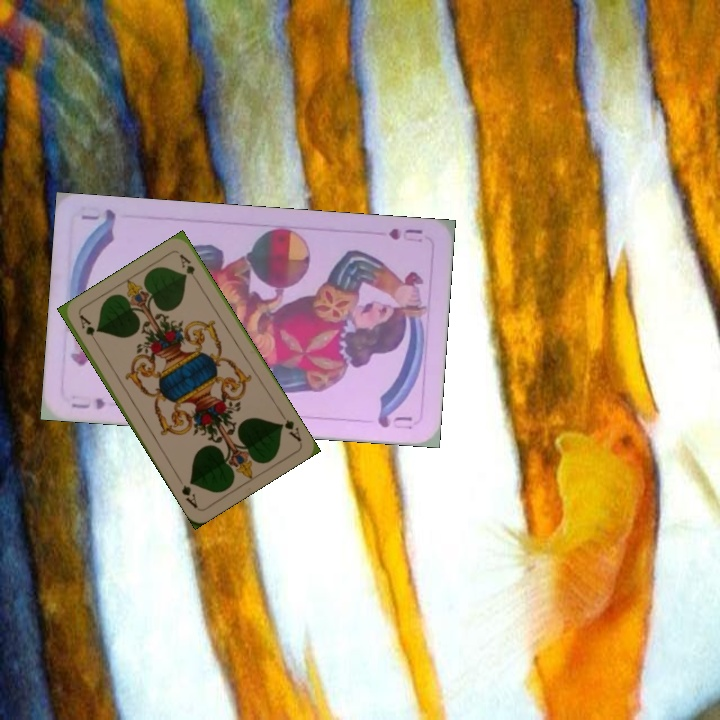GA: (275, 408, 304, 445), (75, 311, 101, 349)
SU: (385, 224, 425, 243), (67, 394, 108, 412)
